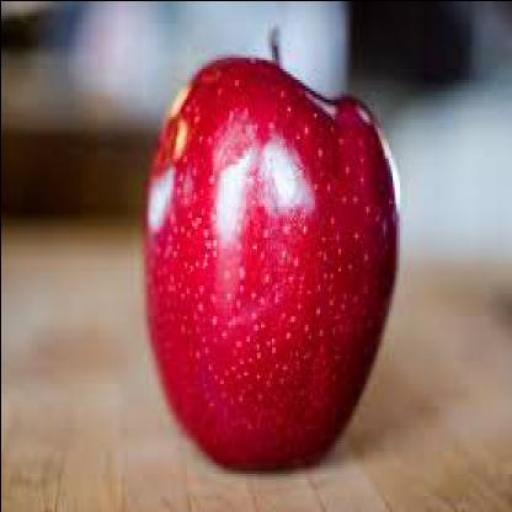biodegradable: (141, 56, 401, 467)
